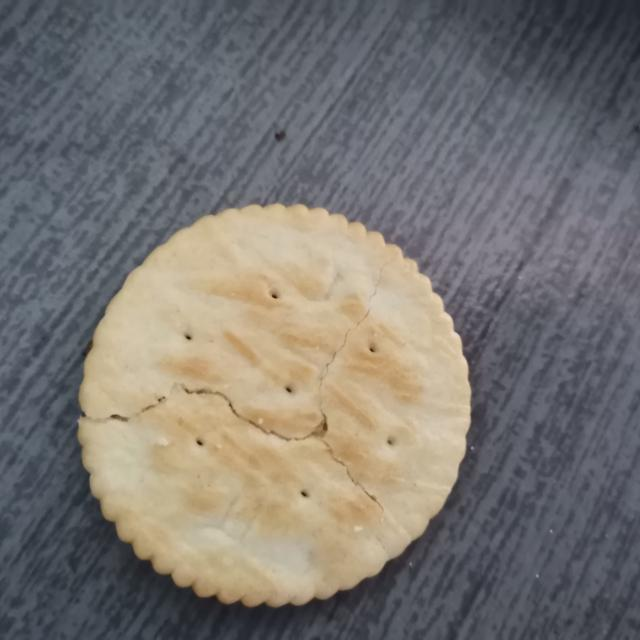Fracture: (81, 241, 425, 556)
